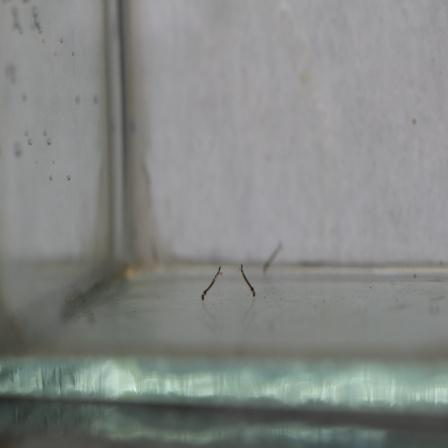Jentik-Nyamuk: (201, 265, 223, 303), (239, 263, 257, 298)
